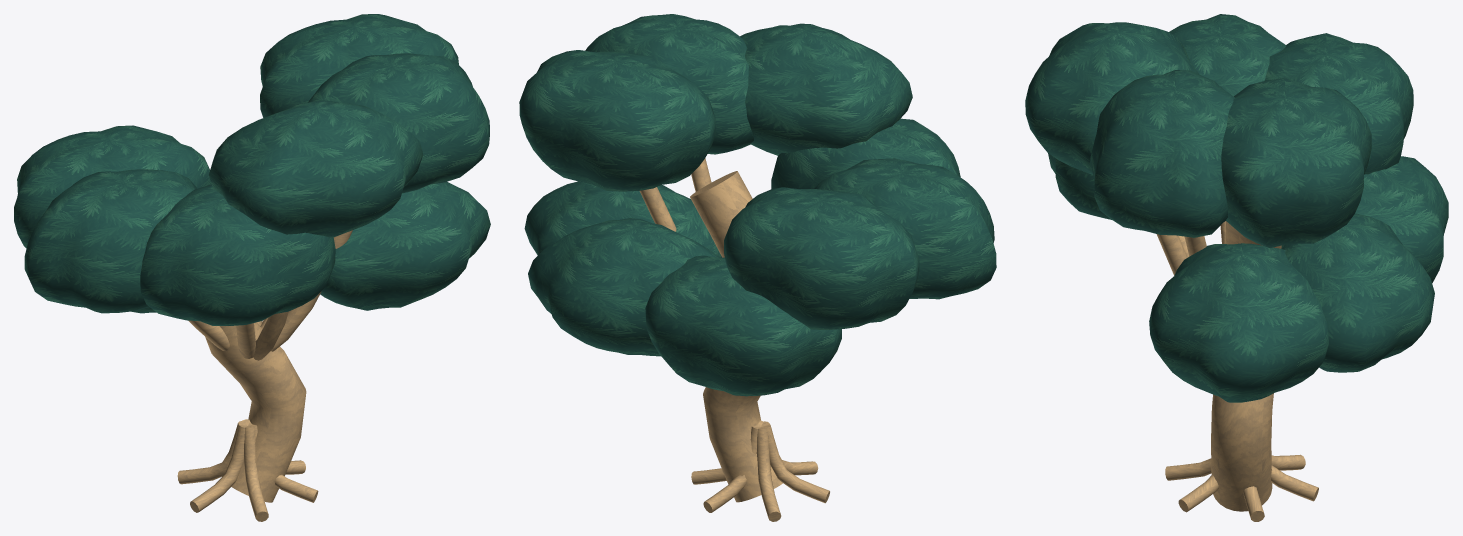
File: tree_3.glb
The picture shows the model from 3 angles, left to right: view 1: azimuth 30°, elevation 25°; view 2: azimuth 150°, elevation 25°; view 3: azimuth 270°, elevation 25°; orthographic projection. The views are drawn at different scales.
Parts seen in each view (by area): view 1: tree_3; view 2: tree_3; view 3: tree_3.
Part boxes in pixels (x1,y1,x2,y2): tree_3: [14, 14, 490, 521]; tree_3: [519, 14, 996, 521]; tree_3: [1025, 14, 1448, 521].
Bounding box in the file's own units: 4.44 × 3.98 × 3.22.
Materials: 1 (1 with a texture image).
